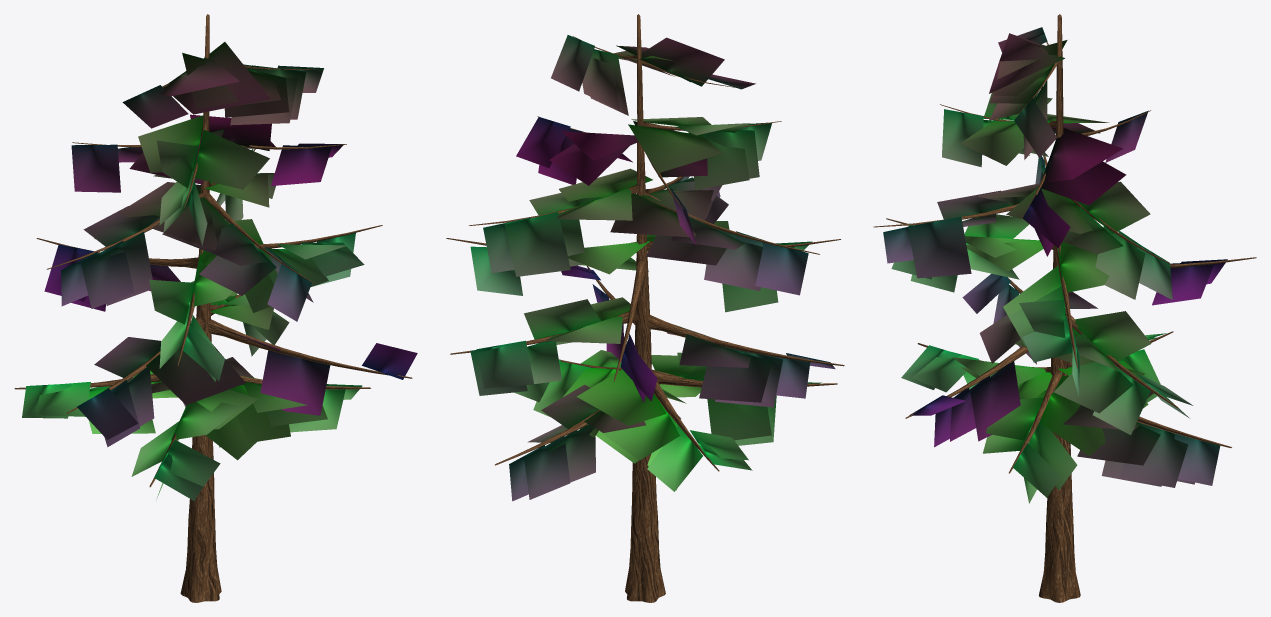
File: pine.fbx
The picture shows the model from 3 angles, left to right: view 1: azimuth 30°, elevation 25°; view 2: azimuth 150°, elevation 25°; view 3: azimuth 270°, elevation 25°; orthographic projection.
Parts seen in each view (by area): view 1: Tree_1, Tree_0; view 2: Tree_1, Tree_0; view 3: Tree_1, Tree_0.
Boxes of the visible parts, bbox=[...] form: Tree_1: bbox=[22, 42, 417, 500]; Tree_0: bbox=[14, 14, 412, 602]; Tree_1: bbox=[470, 35, 835, 501]; Tree_0: bbox=[446, 14, 844, 602]; Tree_1: bbox=[883, 27, 1227, 503]; Tree_0: bbox=[873, 14, 1256, 602].
Bounding box in the file's own units: 64.77 × 100 × 59.89.
